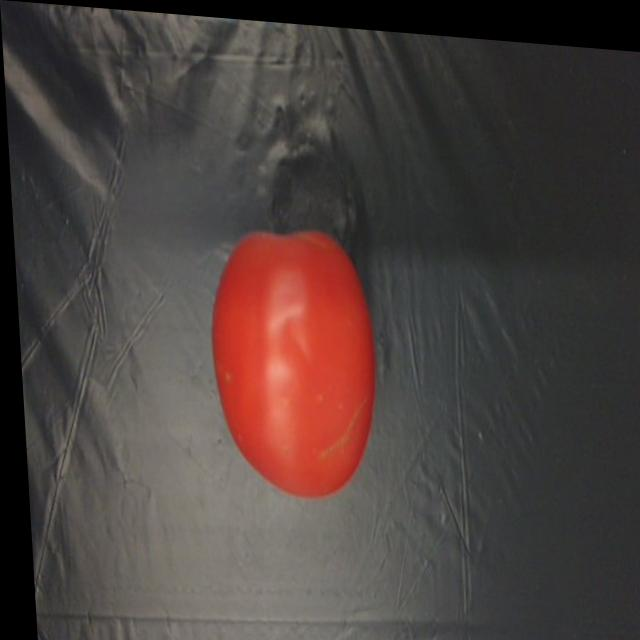kirmizi: (205, 217, 380, 505)
